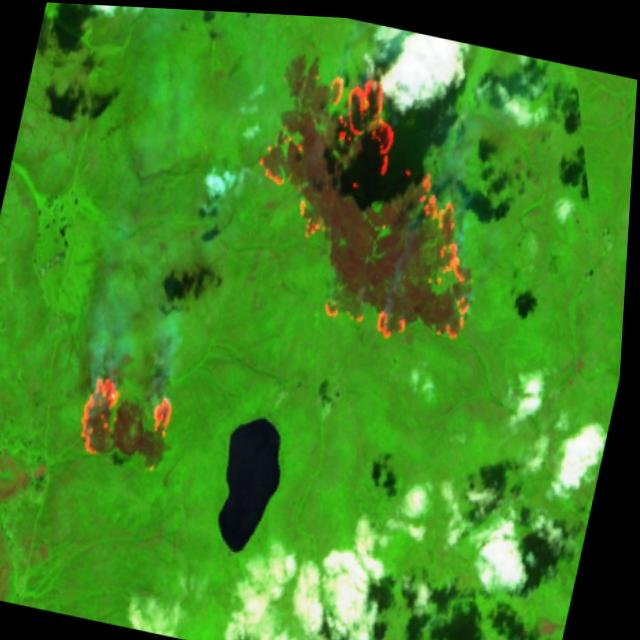fire: (222, 40, 528, 354), (70, 365, 192, 479)
